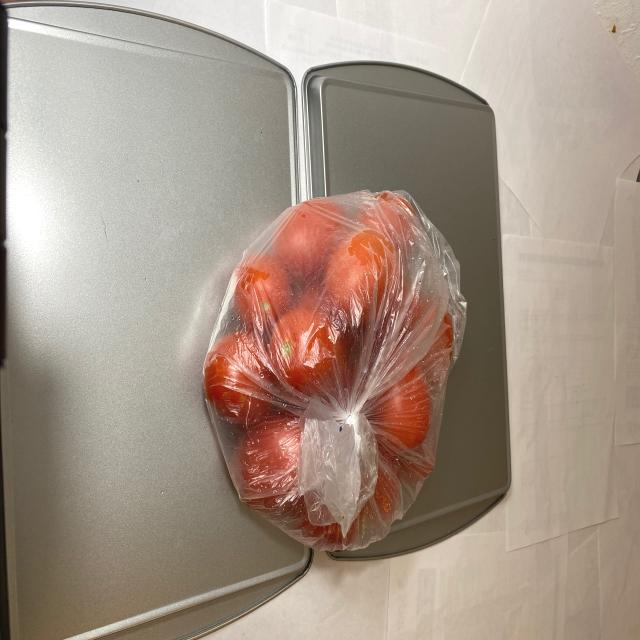tomato: (204, 182, 454, 552)
